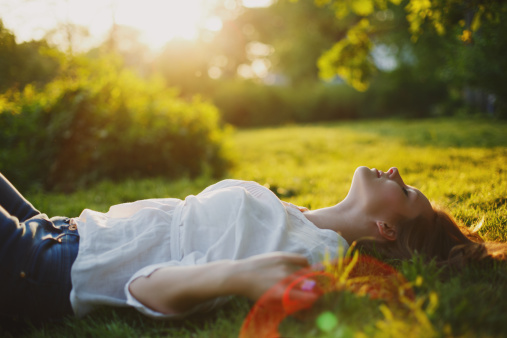deitado: (39, 130, 482, 334)
